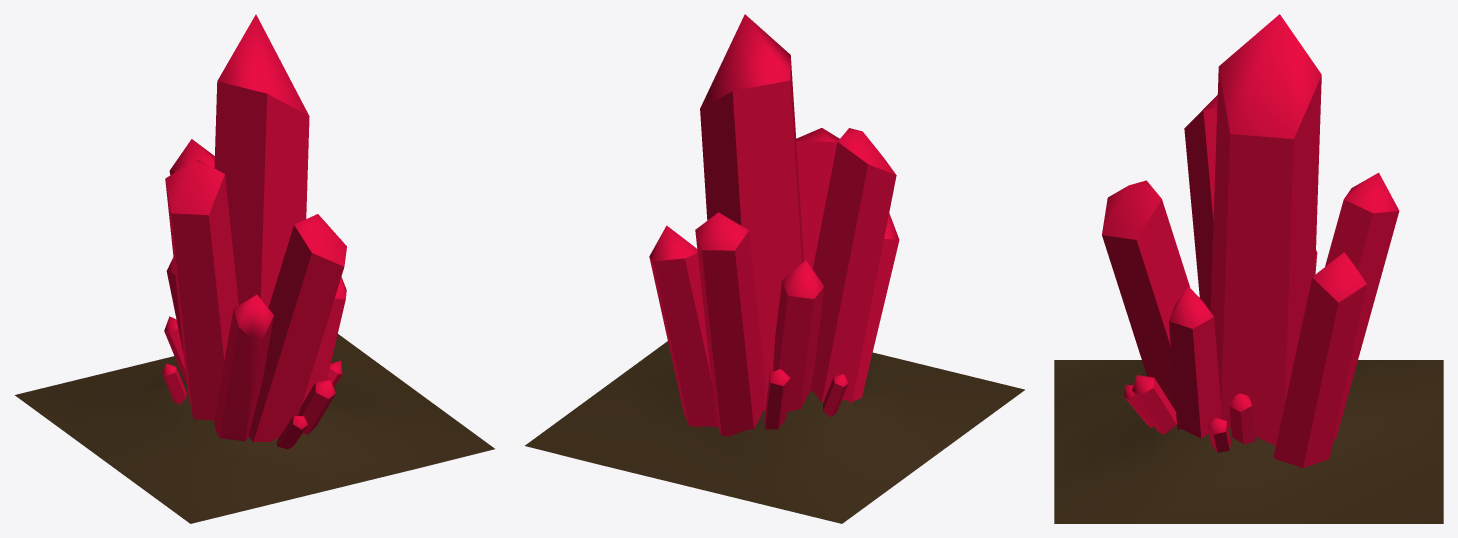
The model's file is Crystal1.fbx.
3 renders of one model, left to right at view 1: azimuth 30°, elevation 25°; view 2: azimuth 150°, elevation 25°; view 3: azimuth 270°, elevation 25°, orthographic. The views are drawn at different scales.
Parts seen in each view (by area): view 1: kristall1; view 2: kristall1; view 3: kristall1.
Part boxes in pixels (x1,y1,x2,y2): kristall1: (15,14,494,523); kristall1: (525,14,1024,523); kristall1: (1054,14,1443,523).
Bounding box in the file's own units: 57.08 × 72.09 × 57.08.
